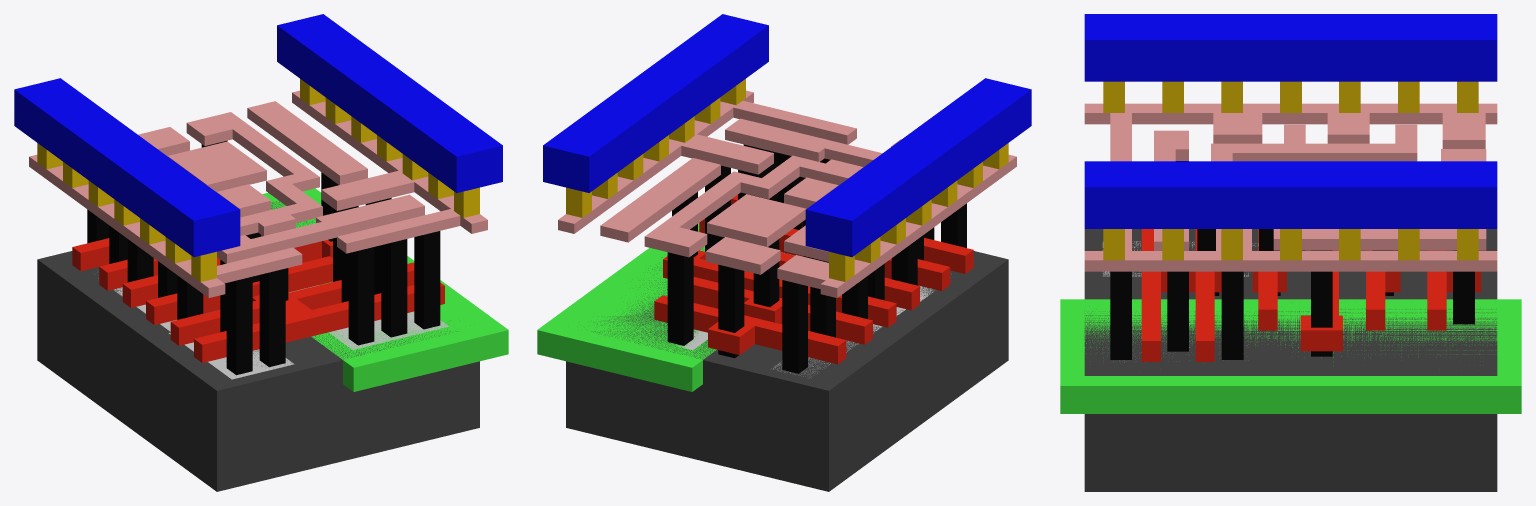
Rendered from sky130_fd_sc_hd__or4_2.obj.
3 views of the same model, side by side, from view 1: azimuth 30°, elevation 25°; view 2: azimuth 150°, elevation 25°; view 3: azimuth 270°, elevation 25° (orthographic). The views are drawn at different scales.
Parts seen in each view (by area): view 1: subs, metal1, li, licon, poly, nwell, mcon, tap, diff; view 2: subs, metal1, li, licon, nwell, poly, mcon; view 3: metal1, subs, nwell, li, poly, mcon, licon.
Part boxes in pixels (x1,y1,x2,y2): subs: (37,201,479,491); metal1: (14,14,502,257); li: (29,90,487,297); licon: (87,140,440,375); poly: (72,235,444,362); nwell: (262,188,508,391); mcon: (37,79,479,281); tap: (290,285,448,349); diff: (98,278,294,379); subs: (566,231,1008,491); metal1: (543,14,1031,257); li: (558,90,1016,297); licon: (667,144,966,373); nwell: (537,223,716,391); poly: (654,194,973,364); mcon: (566,79,1008,281); metal1: (1084,14,1497,228); subs: (1084,229,1497,491); nwell: (1060,299,1521,413); li: (1084,103,1497,271); poly: (1141,229,1481,361); mcon: (1103,81,1478,260); licon: (1110,161,1474,359).
Size of the model in its own units: 3.2 by 2.74 by 3.6.
